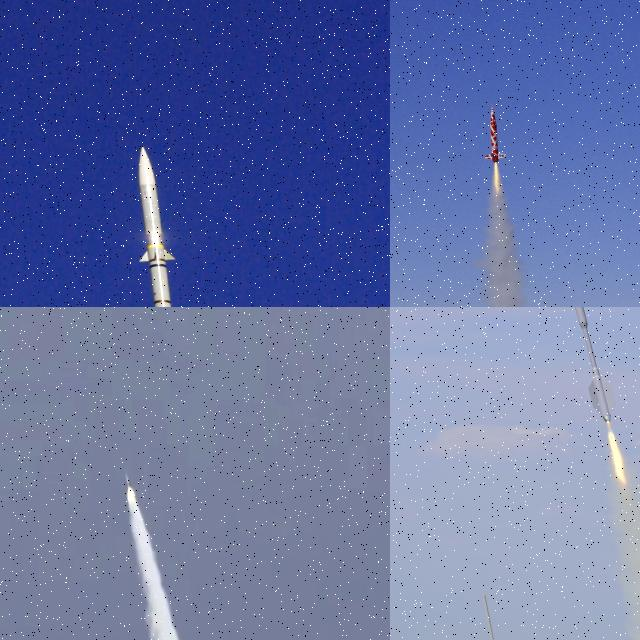Rocket: (134, 145, 198, 307), (574, 307, 617, 423), (483, 104, 508, 164), (125, 472, 134, 494)
